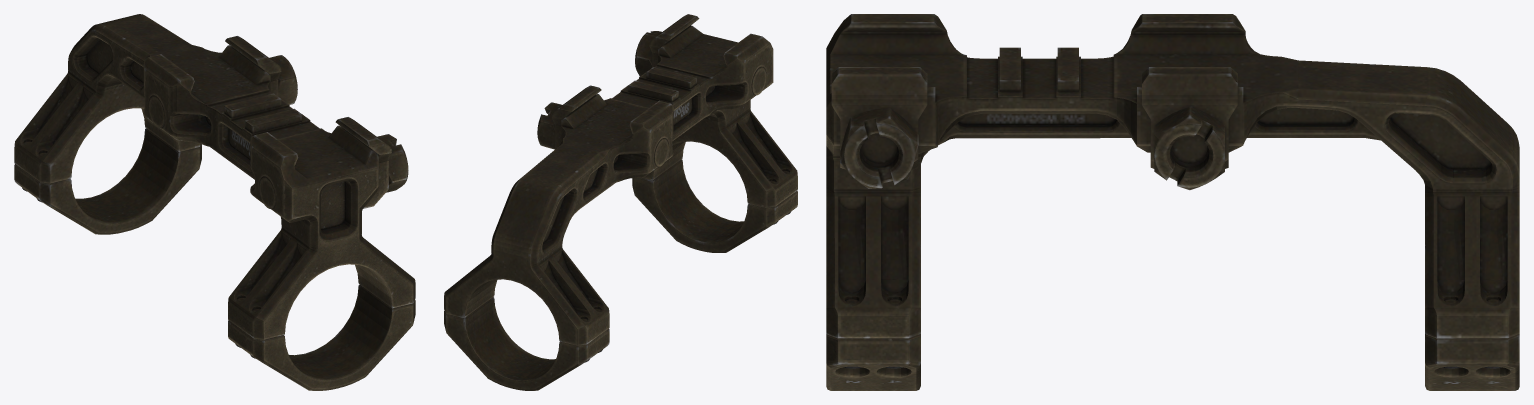
The picture shows the model from 3 angles, left to right: view 1: azimuth 30°, elevation 25°; view 2: azimuth 150°, elevation 25°; view 3: azimuth 270°, elevation 25°; orthographic projection. The views are drawn at different scales.
Parts seen in each view (by area): view 1: TW_6567e751a715f85433025998_PZ_Import; view 2: TW_6567e751a715f85433025998_PZ_Import; view 3: TW_6567e751a715f85433025998_PZ_Import.
Part boxes in pixels (x1,y1,x2,y2): TW_6567e751a715f85433025998_PZ_Import: (14,14,415,390); TW_6567e751a715f85433025998_PZ_Import: (444,14,797,390); TW_6567e751a715f85433025998_PZ_Import: (826,14,1519,390).
Size of the model in its own units: 0.0261 by 0.0689 by 0.0365.
Materials: 1 (1 with a texture image).
